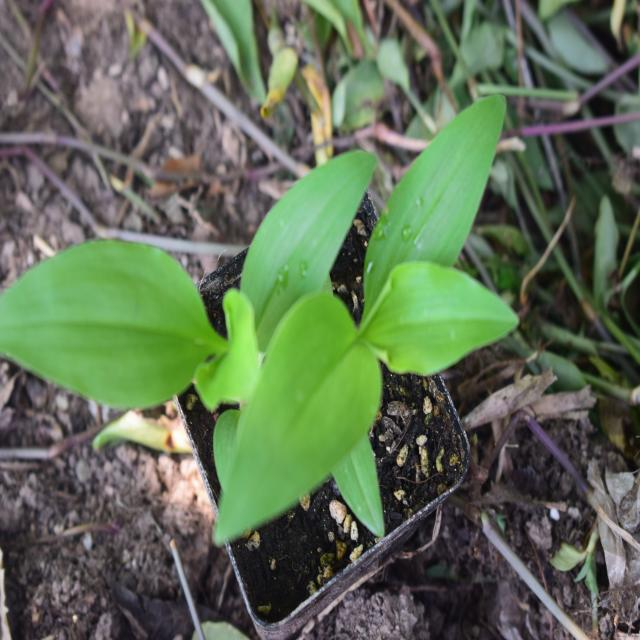Common Dayflower: (199, 103, 512, 514), (13, 212, 203, 426)
